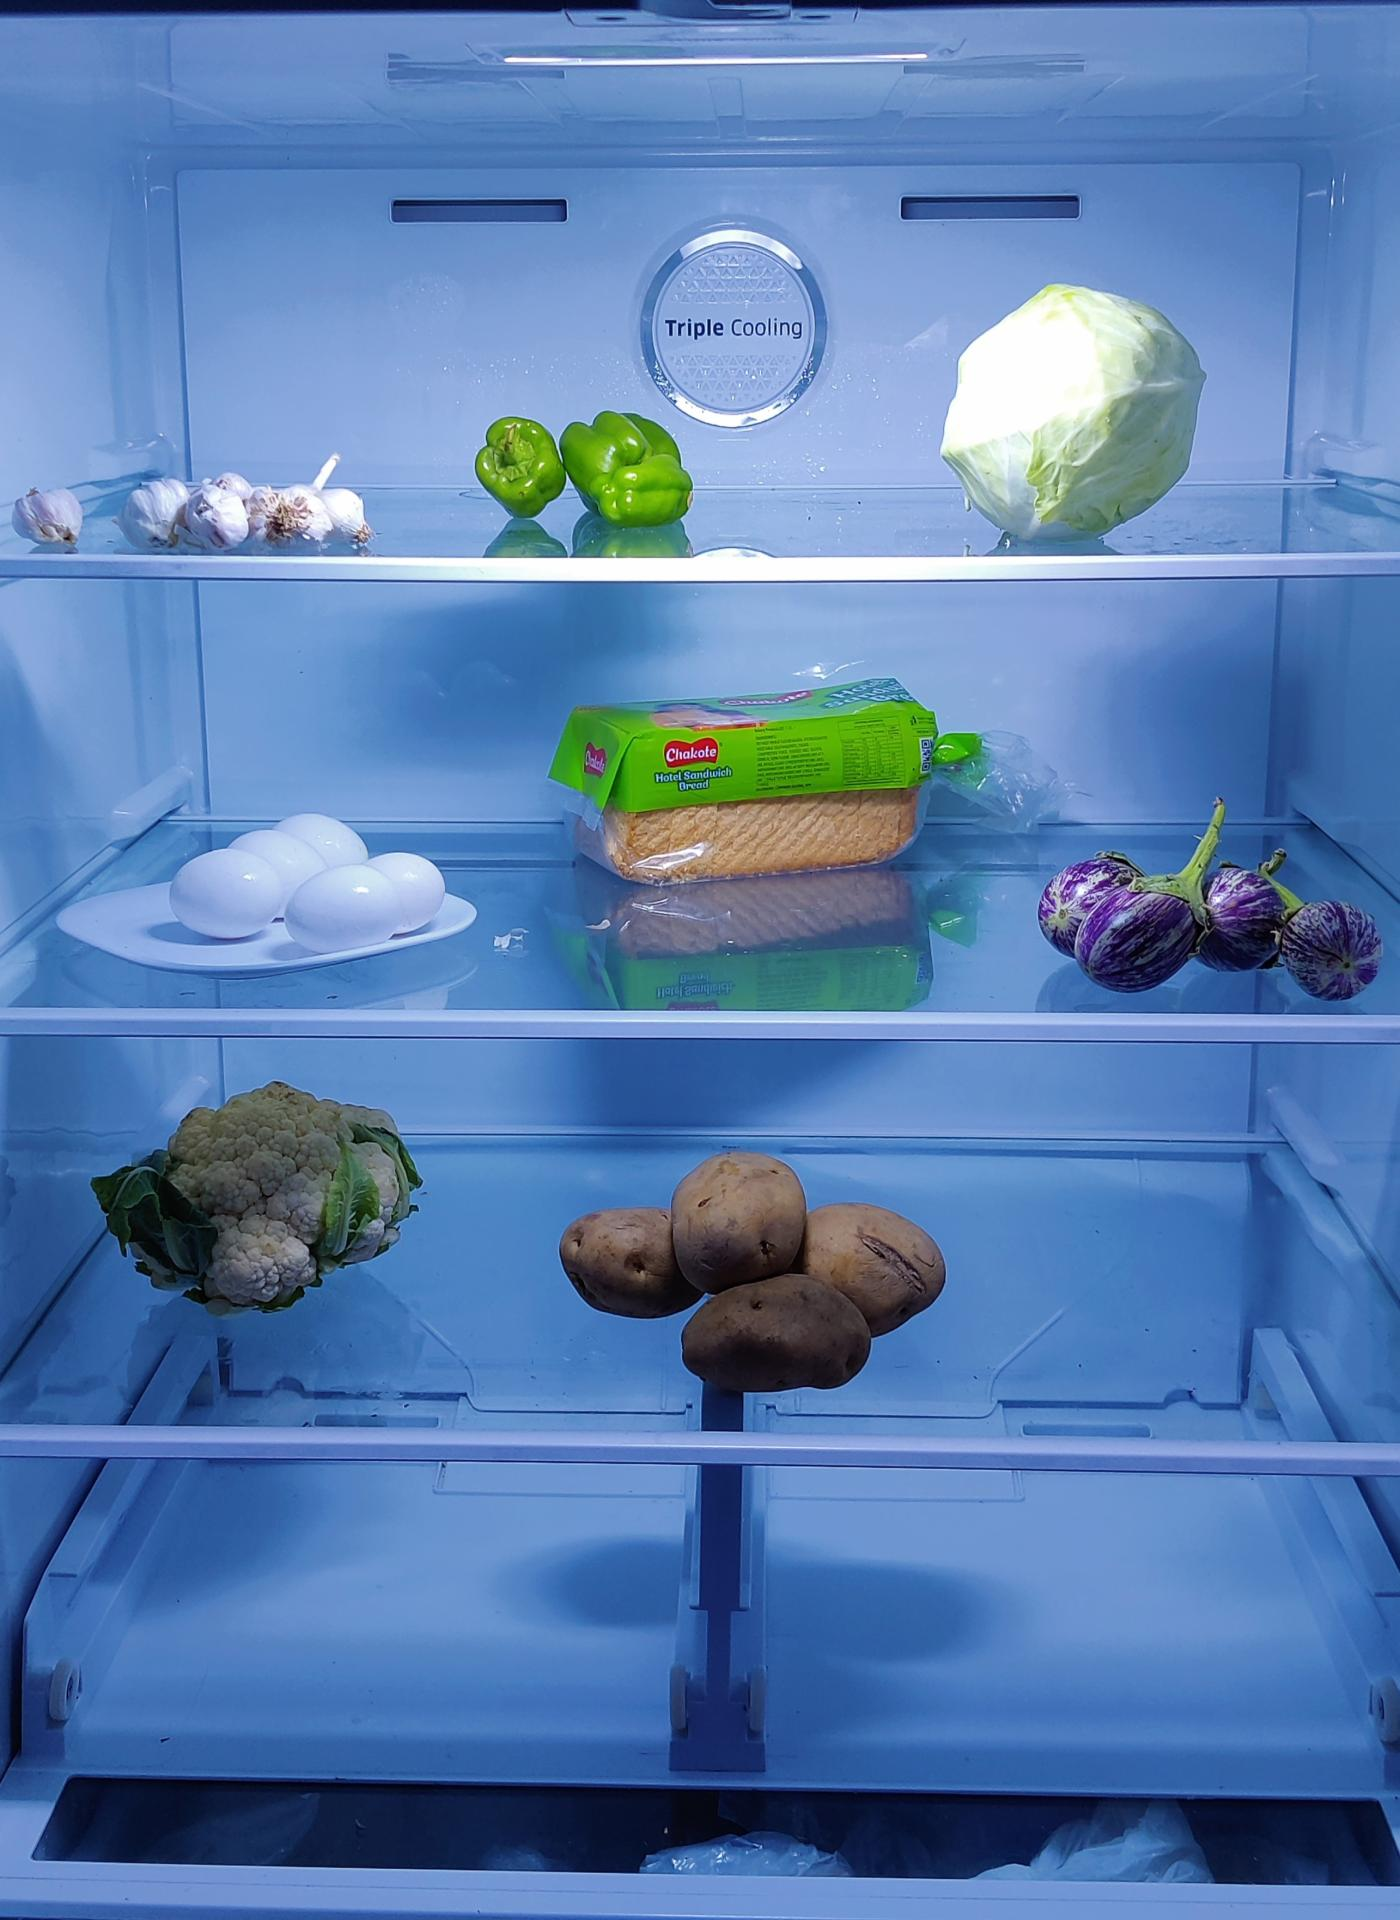bread: (555, 678, 959, 890)
brinjal: (1030, 842, 1385, 1003)
cabbage: (945, 288, 1208, 547)
capsicum: (473, 404, 698, 532)
cauliflower: (104, 1081, 420, 1315)
egg: (176, 798, 446, 957)
garlic: (127, 456, 373, 558)
potato: (555, 1146, 948, 1395)
